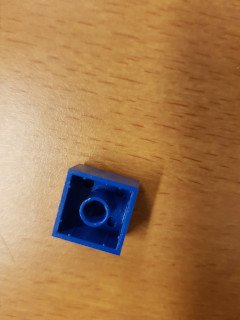2x2 blue: (48, 162, 143, 259)
